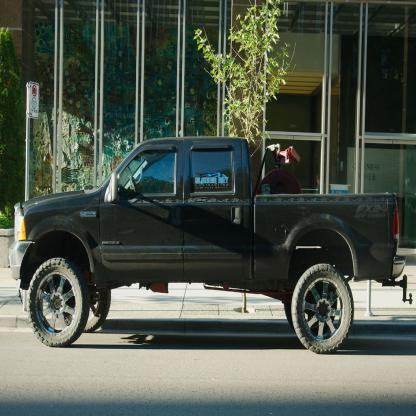Truck: (8, 136, 413, 354)
